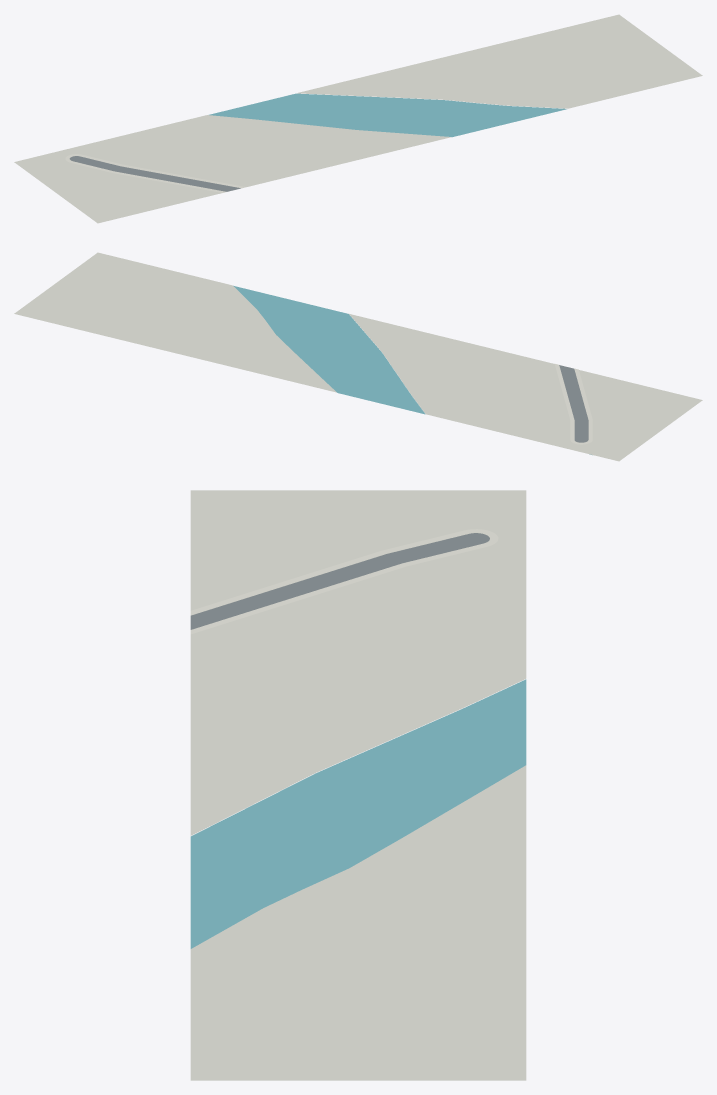
3 views of the same model, one above another, from view 1: azimuth 30°, elevation 25°; view 2: azimuth 150°, elevation 25°; view 3: azimuth 270°, elevation 25° (orthographic). The views are drawn at different scales.
Parts seen in each view (by area): view 1: city; view 2: city; view 3: city.
Part boxes in pixels (left/top/right/bottom): city: left=14, top=14, right=702, bottom=223; city: left=14, top=252, right=702, bottom=461; city: left=190, top=490, right=526, bottom=1080.
Size of the model in its own units: 500 by 0.4 by 120.
